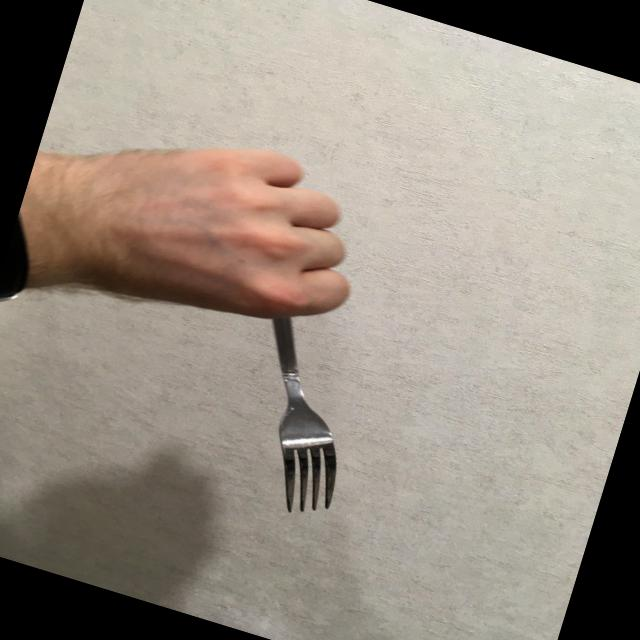fork: (218, 285, 390, 525)
